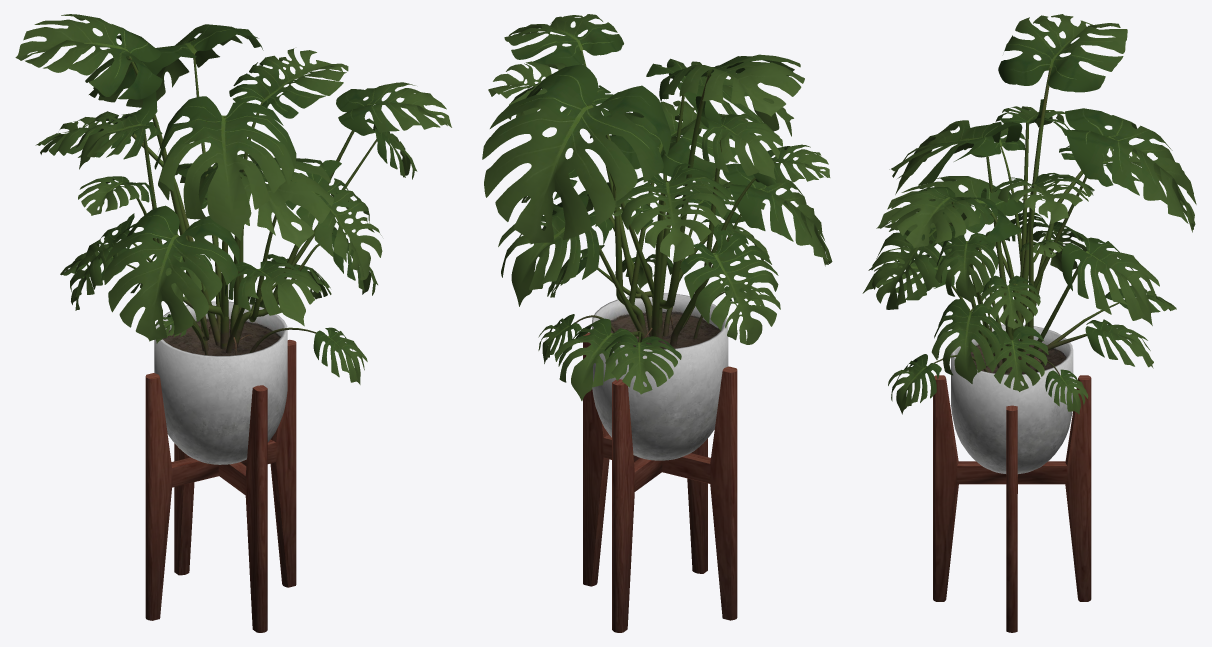
Rendered from sf-monstera.glb.
3 renders of one model, left to right at view 1: azimuth 30°, elevation 25°; view 2: azimuth 150°, elevation 25°; view 3: azimuth 270°, elevation 25°, orthographic. The views are drawn at different scales.
Parts seen in each view (by area): view 1: Leaves_Mat.1_0, Stand_Mat_0, root_HP_1_Mat.2_0; view 2: Leaves_Mat.1_0, Stand_Mat_0, root_HP_1_Mat.2_0; view 3: Leaves_Mat.1_0, Stand_Mat_0, root_HP_1_Mat.2_0.
Part boxes in pixels (<box>): Leaves_Mat.1_0: <box>15,14,451,384</box>; Stand_Mat_0: <box>145,301,296,632</box>; root_HP_1_Mat.2_0: <box>124,53,376,355</box>; Leaves_Mat.1_0: <box>482,14,832,400</box>; Stand_Mat_0: <box>583,293,737,632</box>; root_HP_1_Mat.2_0: <box>559,50,755,346</box>; Leaves_Mat.1_0: <box>862,14,1196,414</box>; Stand_Mat_0: <box>933,324,1091,632</box>; root_HP_1_Mat.2_0: <box>933,68,1124,375</box>.
Size of the model in its own units: 0.639 by 1 by 0.5814.
3 materials, 3 textured.
